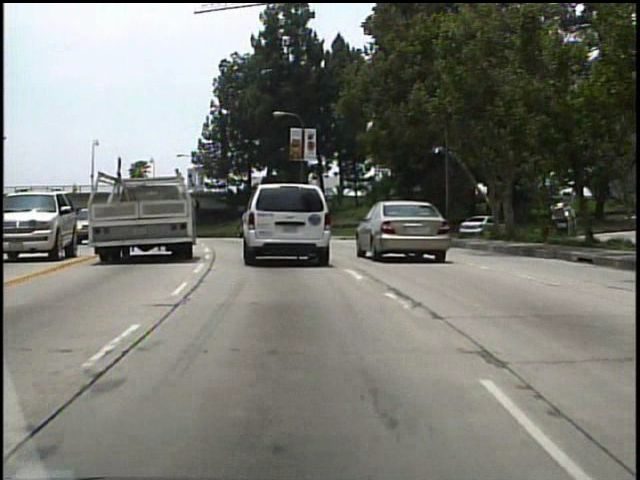person: (70, 180, 81, 200)
